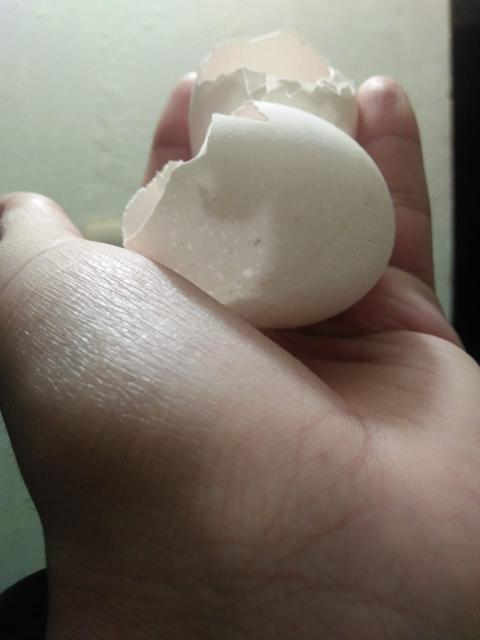Roto: (120, 102, 399, 329), (186, 28, 359, 156)
